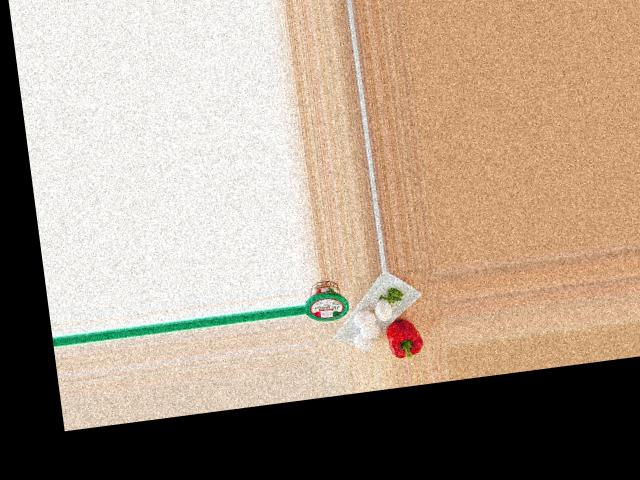bell_pepper: (379, 317, 427, 360)
